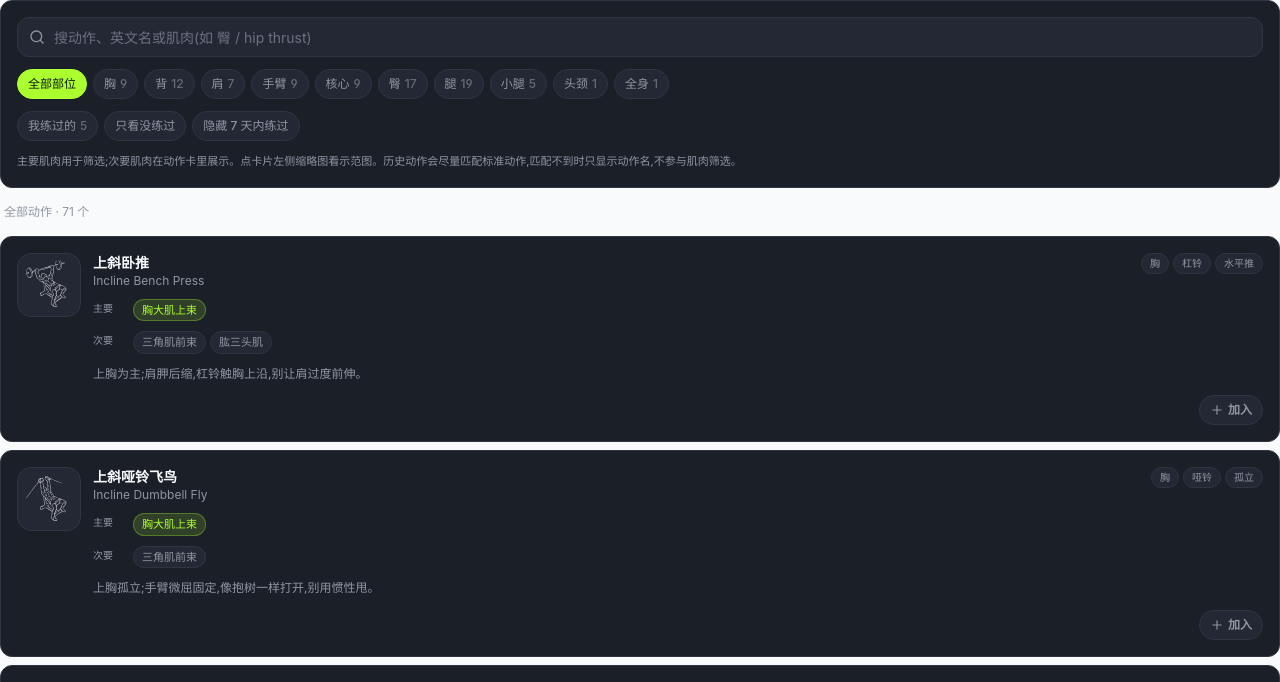
FitExerciseLibrary › 点胸再点中胸后只显示中胸动作
Click the button "胸9".
click(116, 84)  # box top-left (93, 69), bottom-right (138, 99)
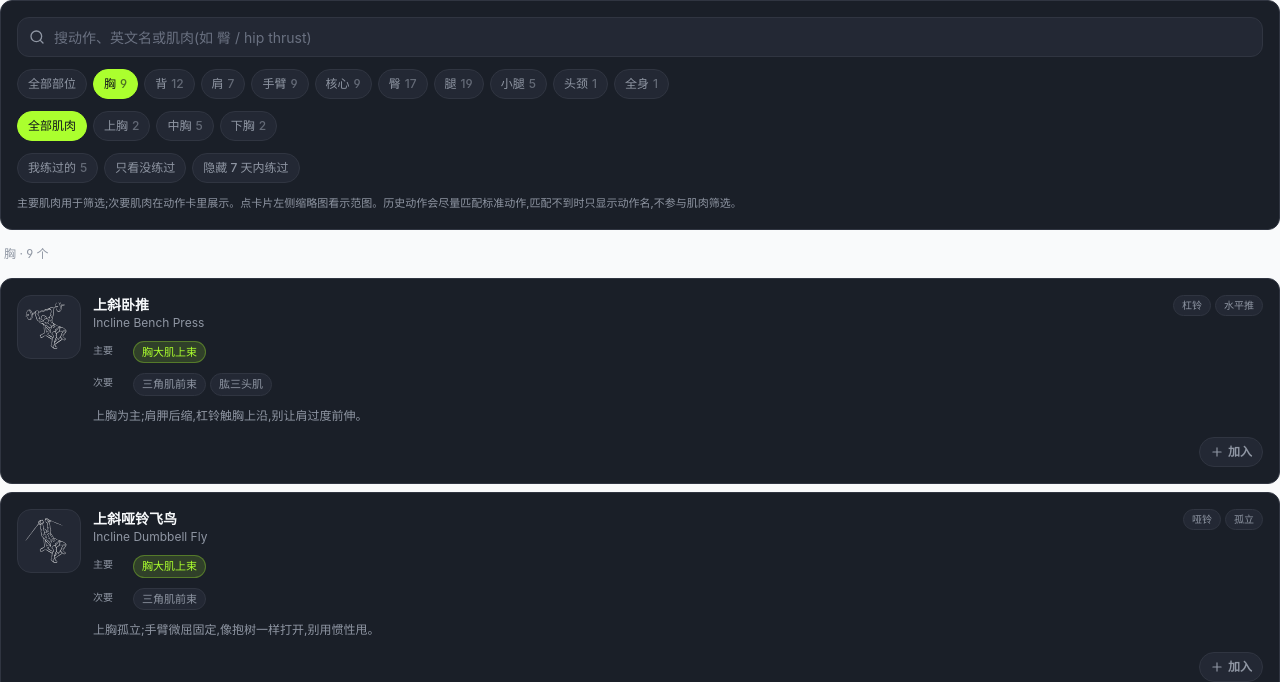
Click the button "中胸5".
click(185, 126)  # box top-left (156, 111), bottom-right (214, 141)
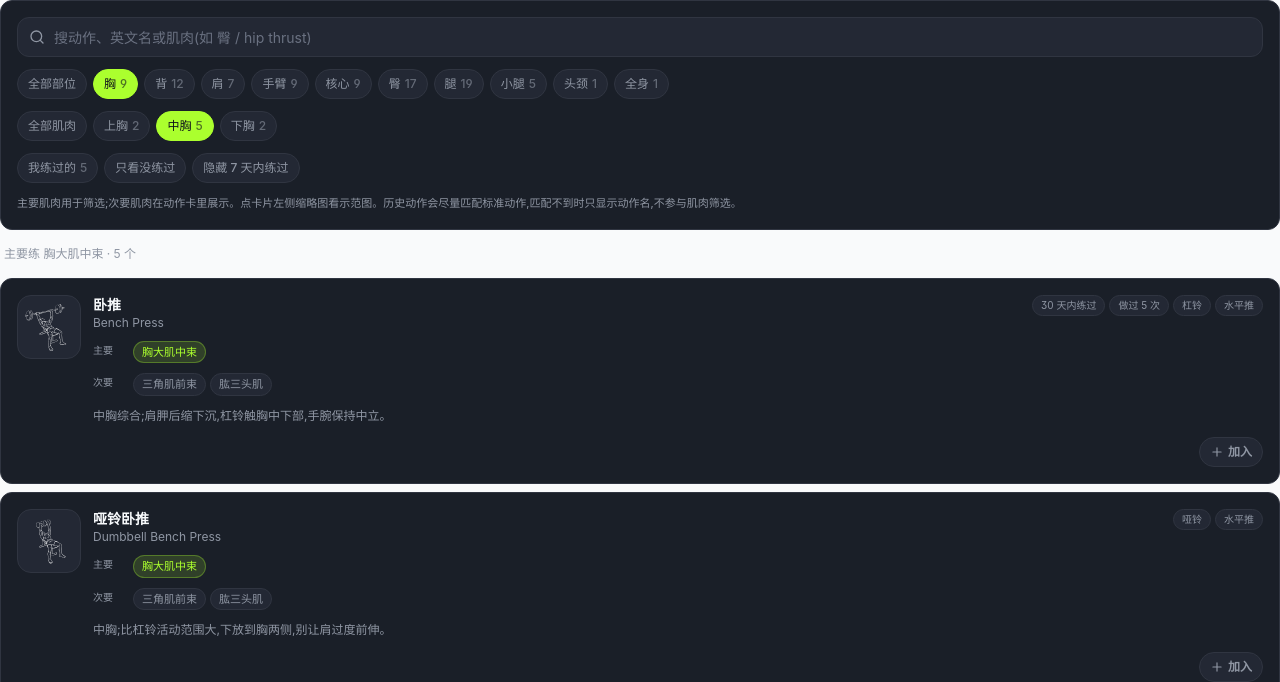
Check: the heading "卧推" is shown, box top-left (93, 296), bottom-right (121, 313)
Check: the heading "上斜卧推" is gone
